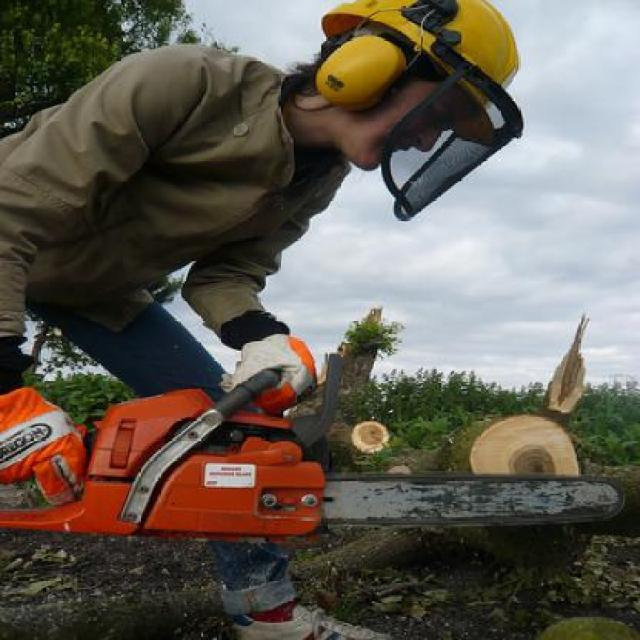Chainsaw: (0, 347, 632, 549)
